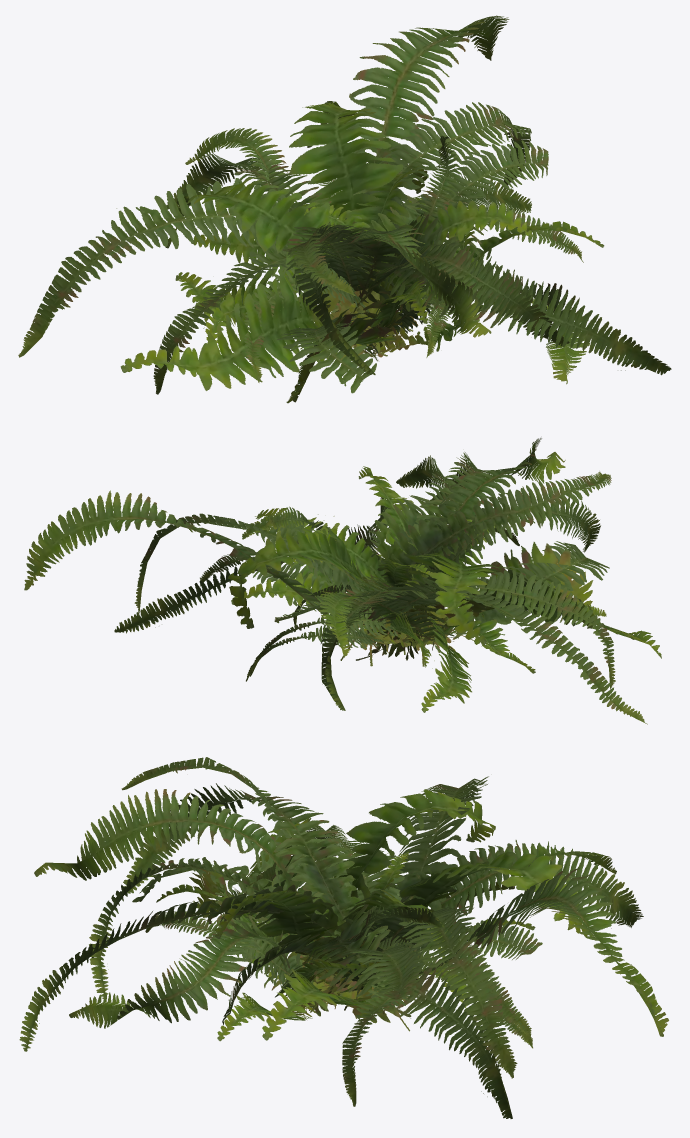
File: helecho_02.glb
The picture shows the model from 3 angles, top to bottom: view 1: azimuth 30°, elevation 25°; view 2: azimuth 150°, elevation 25°; view 3: azimuth 270°, elevation 25°; orthographic projection. The views are drawn at different scales.
Visible parts, largest first — view 1: helecho_02_v0, helecho_02_v1, helecho_02_v3, helecho_02_v2; view 2: helecho_02_v0, helecho_02_v1, helecho_02_v2, helecho_02_v3; view 3: helecho_02_v0, helecho_02_v1, helecho_02_v2, helecho_02_v3.
Part boxes in pixels (x1=…): helecho_02_v0: x1=18, y1=15, x2=671, y2=394; helecho_02_v1: x1=120, y1=128, x2=589, y2=402; helecho_02_v3: x1=175, y1=224, x2=553, y2=403; helecho_02_v2: x1=204, y1=136, x2=537, y2=357; helecho_02_v0: x1=24, y1=438, x2=647, y2=724; helecho_02_v1: x1=114, y1=452, x2=661, y2=676; helecho_02_v2: x1=242, y1=506, x2=535, y2=681; helecho_02_v3: x1=293, y1=519, x2=606, y2=712; helecho_02_v0: x1=19, y1=776, x2=668, y2=1106; helecho_02_v1: x1=69, y1=757, x2=616, y2=1118; helecho_02_v2: x1=145, y1=851, x2=542, y2=1048; helecho_02_v3: x1=156, y1=855, x2=535, y2=1041.
Size of the model in its own units: 1.13 by 0.3661 by 1.
Materials: 1 (1 with a texture image).
